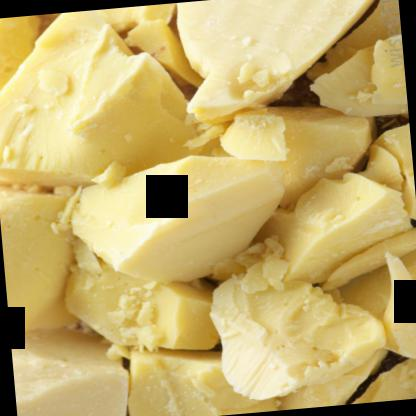mozarella cheese: (0, 1, 209, 194), (62, 148, 301, 290), (177, 0, 404, 120), (213, 269, 389, 401)
